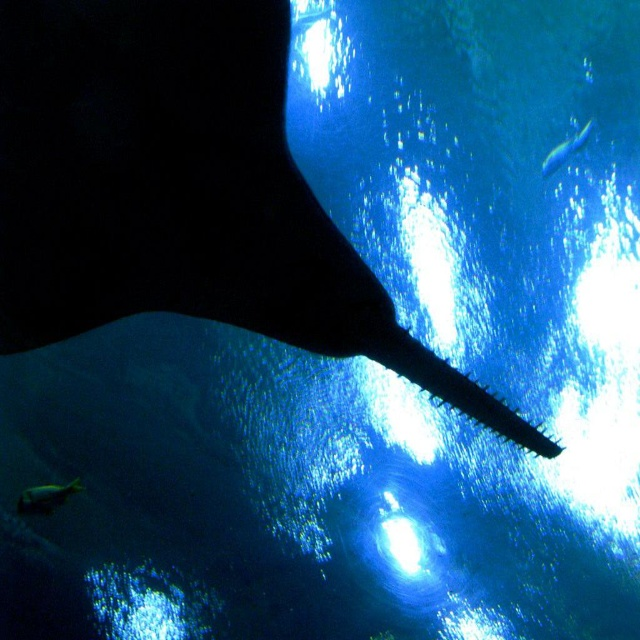Fish: (0, 0, 566, 461), (18, 475, 94, 518), (540, 118, 592, 180)
